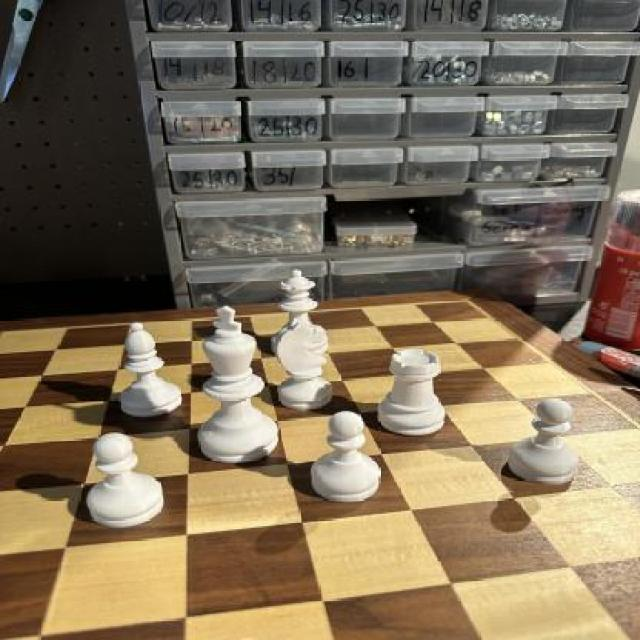black-rook: (108, 320, 190, 418)
white-bishop: (188, 304, 286, 466)
white-king: (269, 322, 338, 413)
white-knight: (80, 431, 168, 531), (306, 409, 389, 508), (503, 396, 581, 488)
white-pawn: (264, 269, 332, 359)
white-queen: (378, 348, 452, 440)
